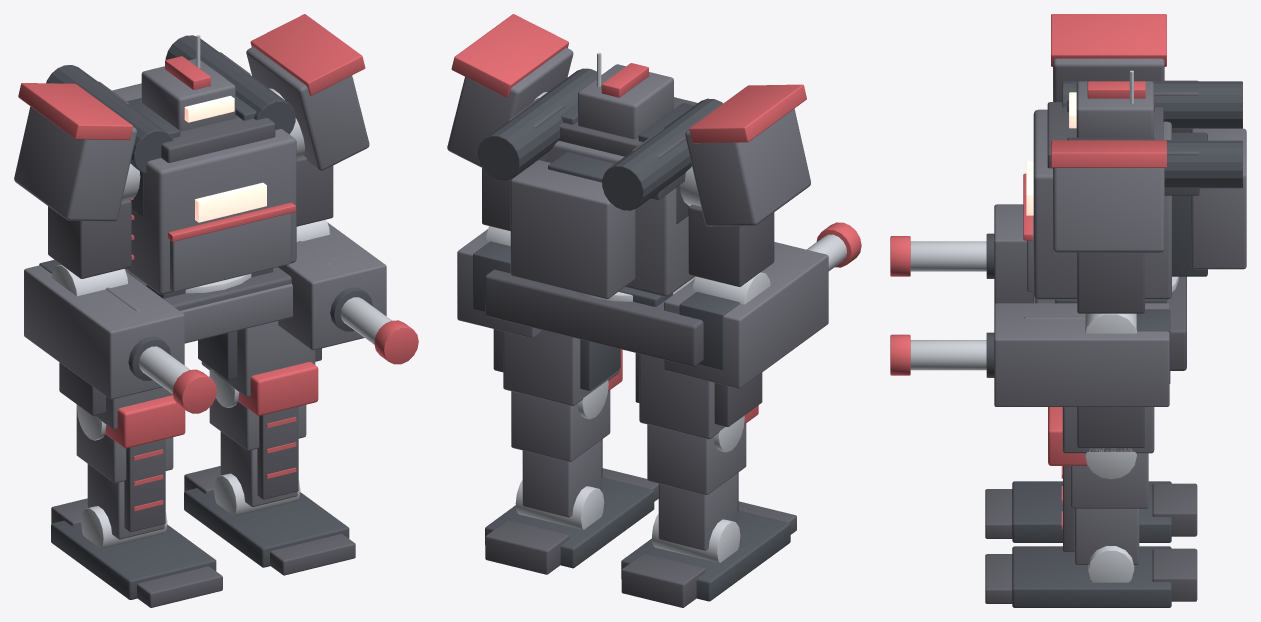
File: patriarch.glb
3 views of the same model, side by side, from view 1: azimuth 30°, elevation 25°; view 2: azimuth 150°, elevation 25°; view 3: azimuth 270°, elevation 25° (orthographic). The views are drawn at different scales.
Visible parts, largest first — view 1: PAT_torso_shell, PAT_gun_r_shell, PAT_arm_r_shell, PAT_gun_l_shell, PAT_arm_l_shell, PAT_foot_l_dark, PAT_foot_r_dark, PAT_torso_plate, PAT_arm_l_trim, PAT_arm_r_plate, PAT_arm_r_trim, PAT_knee_r_shell (+33 smaller); view 2: PAT_torso_shell, PAT_torso_plate, PAT_gun_r_shell, PAT_arm_r_shell, PAT_knee_r_shell, PAT_knee_l_shell, PAT_leg_l_shell, shoulder_cannon, PAT_arm_l_trim, PAT_arm_l_shell, shoulder_cannon.001, PAT_arm_r_plate (+23 smaller); view 3: PAT_gun_l_shell, PAT_torso_shell, PAT_arm_l_shell, PAT_foot_l_dark, PAT_knee_l_shell, PAT_arm_r_trim, PAT_foot_r_dark, PAT_arm_l_plate, shoulder_cannon.001, PAT_torso_plate, shoulder_cannon, PAT_foot_l_plate (+19 smaller).
Boxes of the visible parts, bbox=[...] form: PAT_torso_shell: bbox=[106, 83, 330, 343]; PAT_gun_r_shell: bbox=[24, 265, 184, 399]; PAT_arm_r_shell: bbox=[14, 106, 137, 221]; PAT_gun_l_shell: bbox=[278, 222, 386, 350]; PAT_arm_l_shell: bbox=[246, 47, 369, 170]; PAT_foot_l_dark: bbox=[184, 488, 349, 567]; PAT_foot_r_dark: bbox=[51, 520, 216, 599]; PAT_torso_plate: bbox=[97, 52, 291, 310]; PAT_arm_l_trim: bbox=[250, 14, 365, 95]; PAT_arm_r_plate: bbox=[48, 198, 131, 278]; PAT_arm_r_trim: bbox=[18, 83, 132, 140]; PAT_knee_r_shell: bbox=[76, 404, 173, 539]; PAT_torso_shell: bbox=[510, 141, 694, 299]; PAT_torso_plate: bbox=[485, 97, 703, 366]; PAT_gun_r_shell: bbox=[664, 242, 828, 388]; PAT_arm_r_shell: bbox=[685, 108, 810, 226]; PAT_knee_r_shell: bbox=[647, 423, 746, 550]; PAT_knee_l_shell: bbox=[511, 390, 610, 517]; PAT_leg_l_shell: bbox=[503, 330, 619, 405]; shoulder_cannon: bbox=[478, 68, 596, 180]; PAT_arm_l_trim: bbox=[451, 14, 568, 97]; PAT_arm_l_shell: bbox=[447, 47, 573, 168]; shoulder_cannon.001: bbox=[602, 98, 722, 210]; PAT_arm_r_plate: bbox=[688, 204, 774, 286]; PAT_gun_l_shell: bbox=[994, 303, 1169, 406]; PAT_torso_shell: bbox=[1024, 109, 1246, 319]; PAT_arm_l_shell: bbox=[1053, 168, 1164, 252]; PAT_foot_l_dark: bbox=[1012, 546, 1171, 607]; PAT_knee_l_shell: bbox=[1071, 453, 1148, 564]; PAT_arm_r_trim: bbox=[1051, 14, 1166, 66]; PAT_foot_r_dark: bbox=[1012, 481, 1171, 542]; PAT_arm_l_plate: bbox=[1077, 252, 1144, 313]; shoulder_cannon.001: bbox=[1062, 81, 1242, 128]; PAT_torso_plate: bbox=[1035, 80, 1199, 370]; shoulder_cannon: bbox=[1164, 140, 1242, 188]; PAT_foot_l_plate: bbox=[985, 548, 1197, 603].
Bounding box in the file's own units: 7.59 × 11.75 × 7.71.
